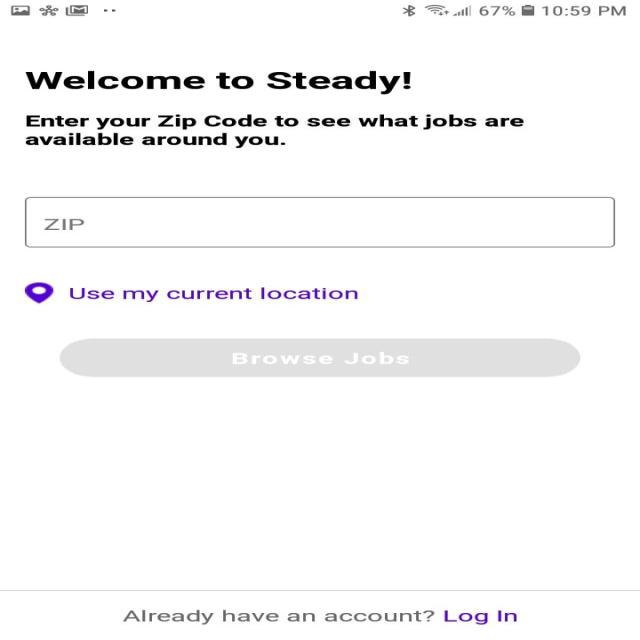EditText: (24, 197, 614, 247)
Icon: (24, 282, 54, 304)
Text: (24, 114, 524, 149), (25, 71, 411, 94), (121, 609, 516, 624), (70, 286, 358, 302), (44, 219, 84, 230)
TextButton: (58, 338, 580, 377)
